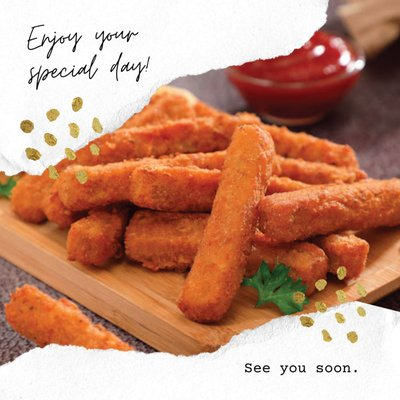sushi: (226, 24, 367, 128)
